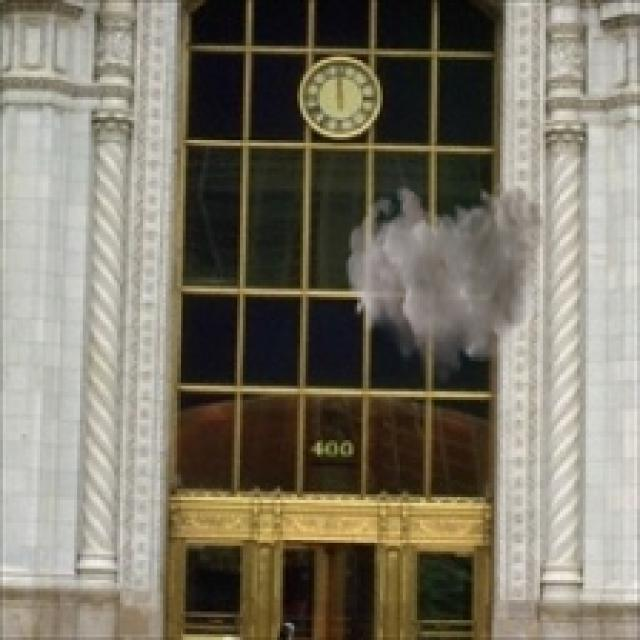Smoke: (346, 180, 546, 386)
